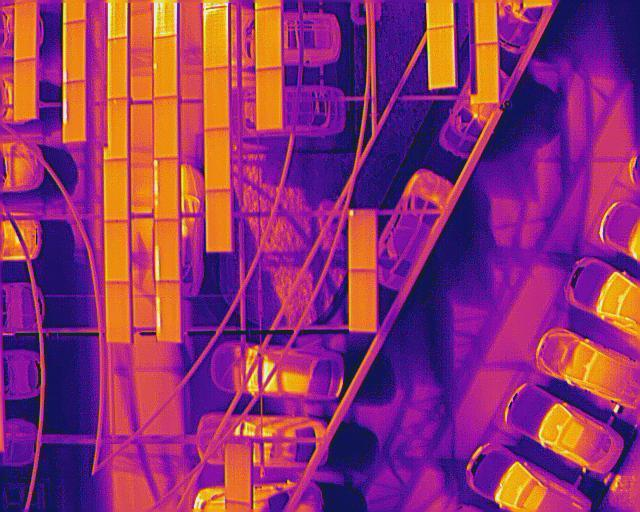Cell: (348, 209, 376, 270), (152, 34, 178, 97)
No-Anomaly: (206, 191, 233, 253), (255, 69, 282, 130), (429, 26, 456, 87), (203, 130, 230, 191), (350, 270, 376, 332), (203, 68, 229, 129), (105, 283, 131, 344), (224, 445, 250, 504), (154, 99, 179, 160), (256, 8, 281, 69), (104, 222, 129, 282), (104, 160, 128, 221), (476, 43, 499, 103), (14, 59, 36, 118), (14, 3, 36, 62), (106, 99, 128, 158), (108, 38, 129, 97)
Unclassified: (155, 280, 182, 342), (203, 7, 228, 70), (155, 220, 179, 282), (62, 82, 86, 142), (154, 160, 178, 219), (63, 22, 86, 81)
